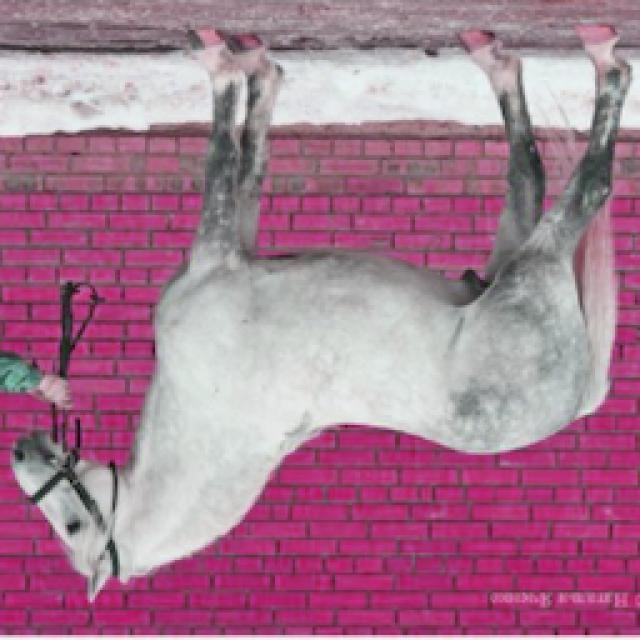Horse: (8, 20, 638, 608)
